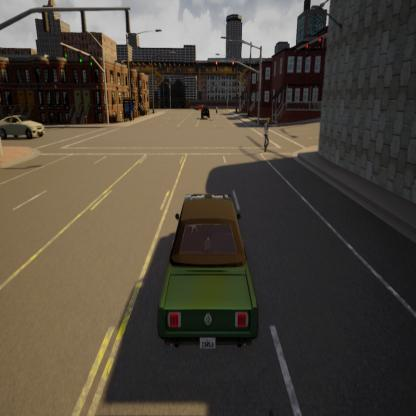Cars: (138, 165, 266, 355), (0, 110, 50, 141), (198, 100, 212, 123)
Pedestrian: (257, 112, 276, 160)
